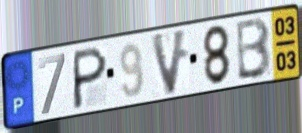7: (37, 51, 67, 116)
8: (201, 23, 233, 87)
9: (118, 41, 146, 100)
B: (235, 15, 273, 83)
P: (70, 44, 109, 112)
V: (149, 27, 190, 99)
